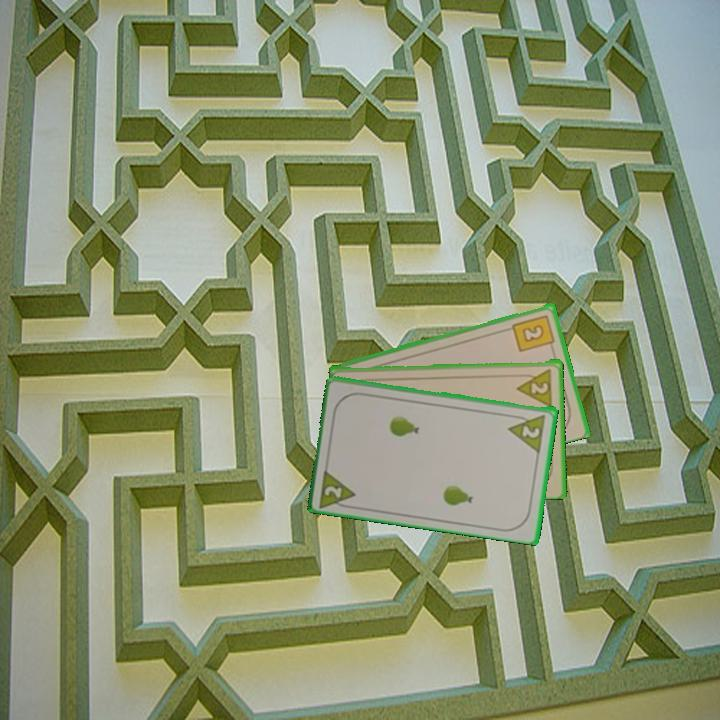2b: (509, 311, 558, 354)
2p: (316, 464, 359, 511), (505, 411, 549, 454), (514, 365, 555, 408)
